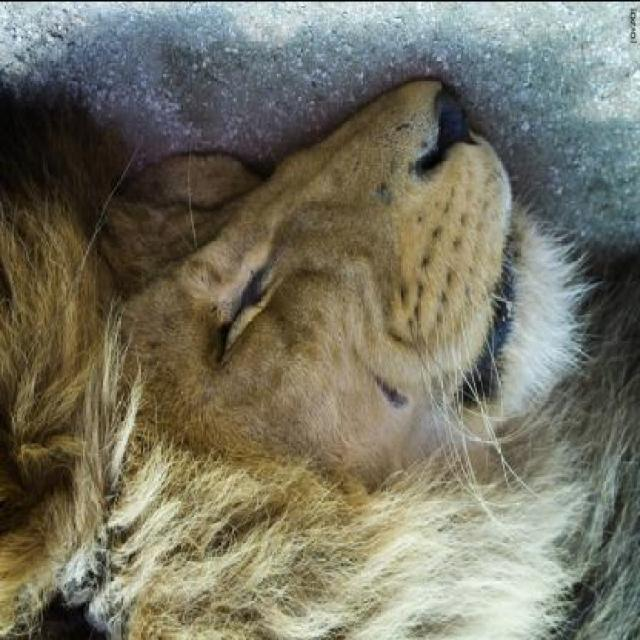Lion: (16, 43, 638, 634)
